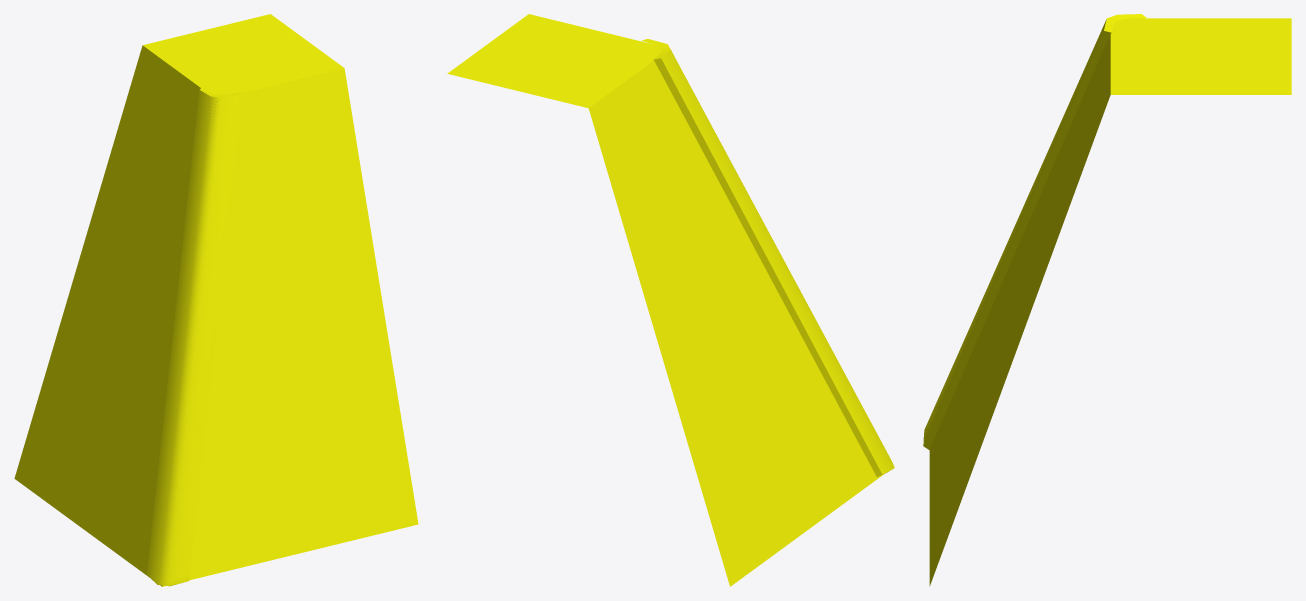
Rendered from roof-slate-corner.glb.
The picture shows the model from 3 angles, left to right: view 1: azimuth 30°, elevation 25°; view 2: azimuth 150°, elevation 25°; view 3: azimuth 270°, elevation 25°; orthographic projection. The views are drawn at different scales.
Visible parts, largest first — view 1: Roof_Slate_Corner; view 2: Roof_Slate_Corner; view 3: Roof_Slate_Corner.
Boxes of the visible parts, <box> form: Roof_Slate_Corner: <box>14,14,418,586</box>; Roof_Slate_Corner: <box>447,14,894,586</box>; Roof_Slate_Corner: <box>923,14,1291,586</box>.
Size of the model in its own units: 2.02 by 3.03 by 2.03.
Materials: 1 (1 with a texture image).
